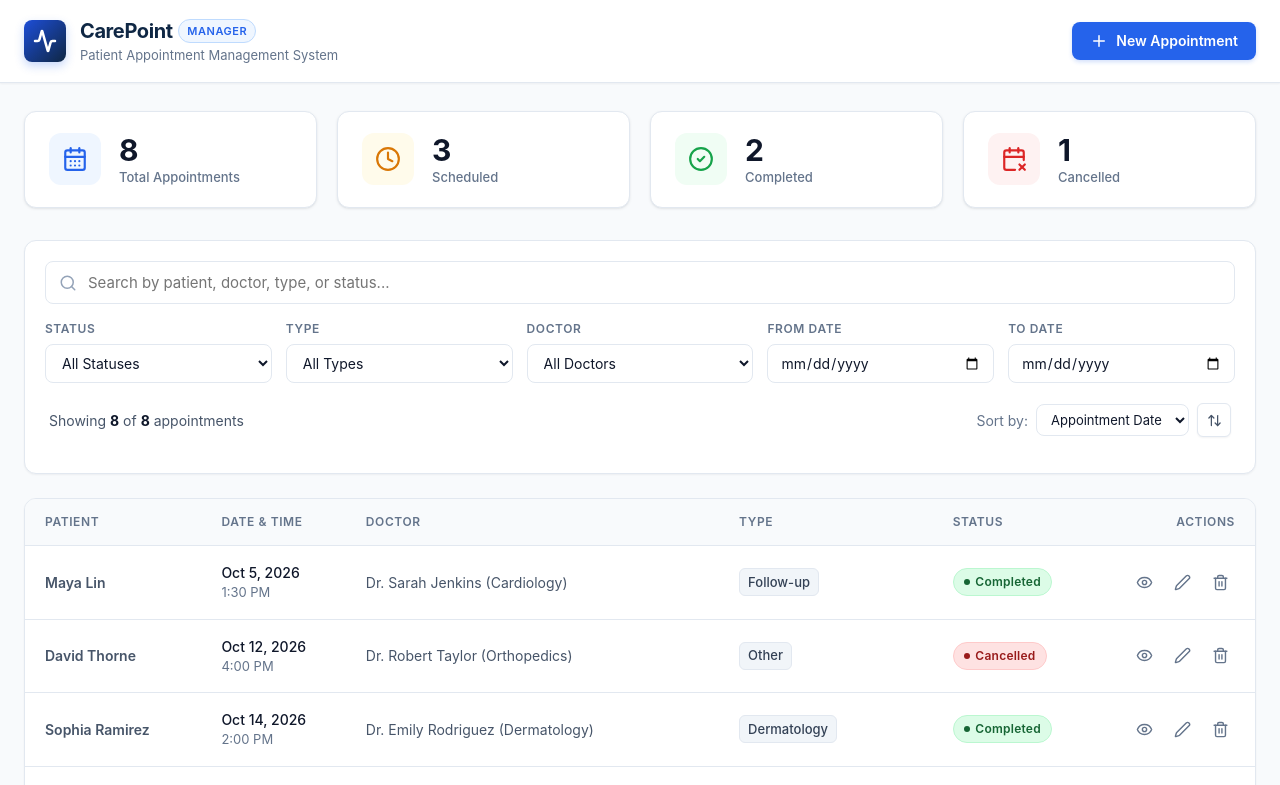
CarePoint Dashboard Component Integration Tests › successfully creates a new appointment and updates table and summary cards
The width and height of the screenshot is (1280, 785).
// Open modal
Click the button with test id "new-appointment-button" at (1164, 41), box [1072,22,1256,60]
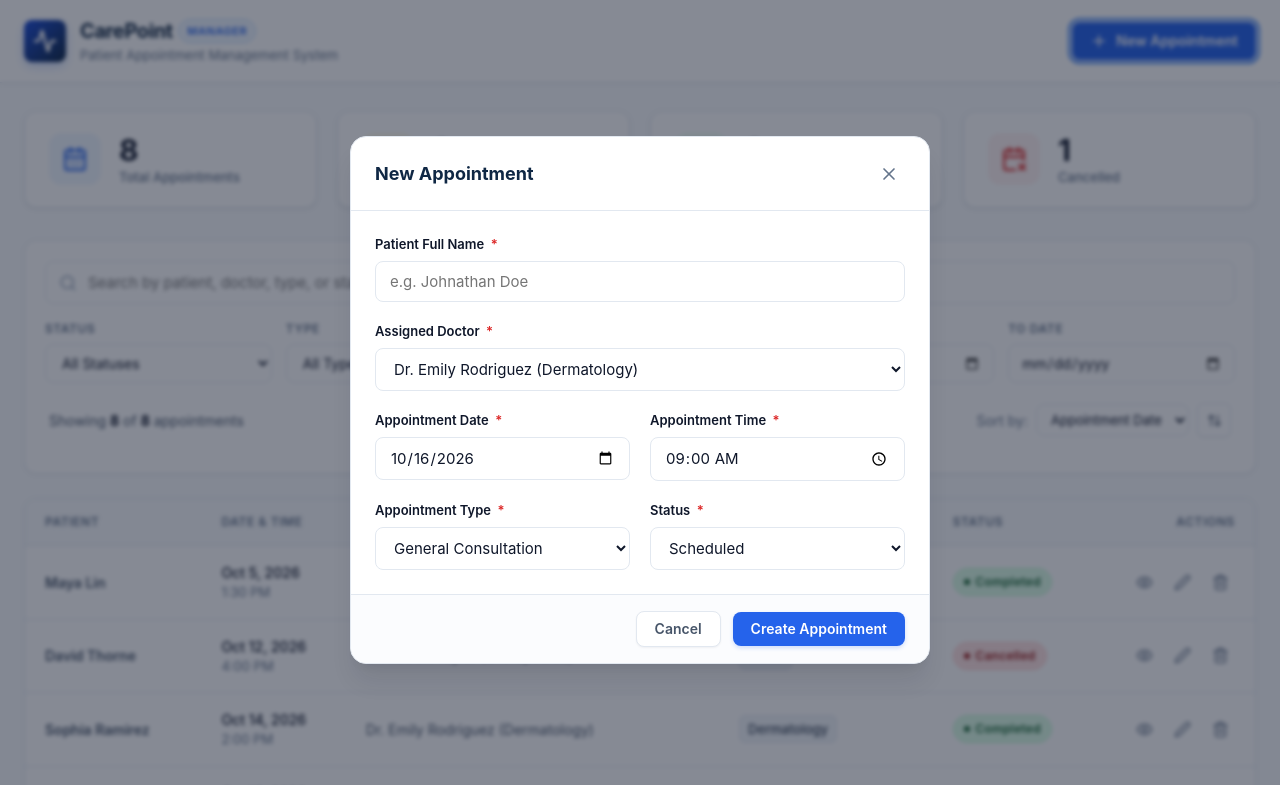
// Fill valid inputs
Type "Rosalind Franklin" into the field with test id "input-patient-name" at (640, 282), box [375,261,905,302]
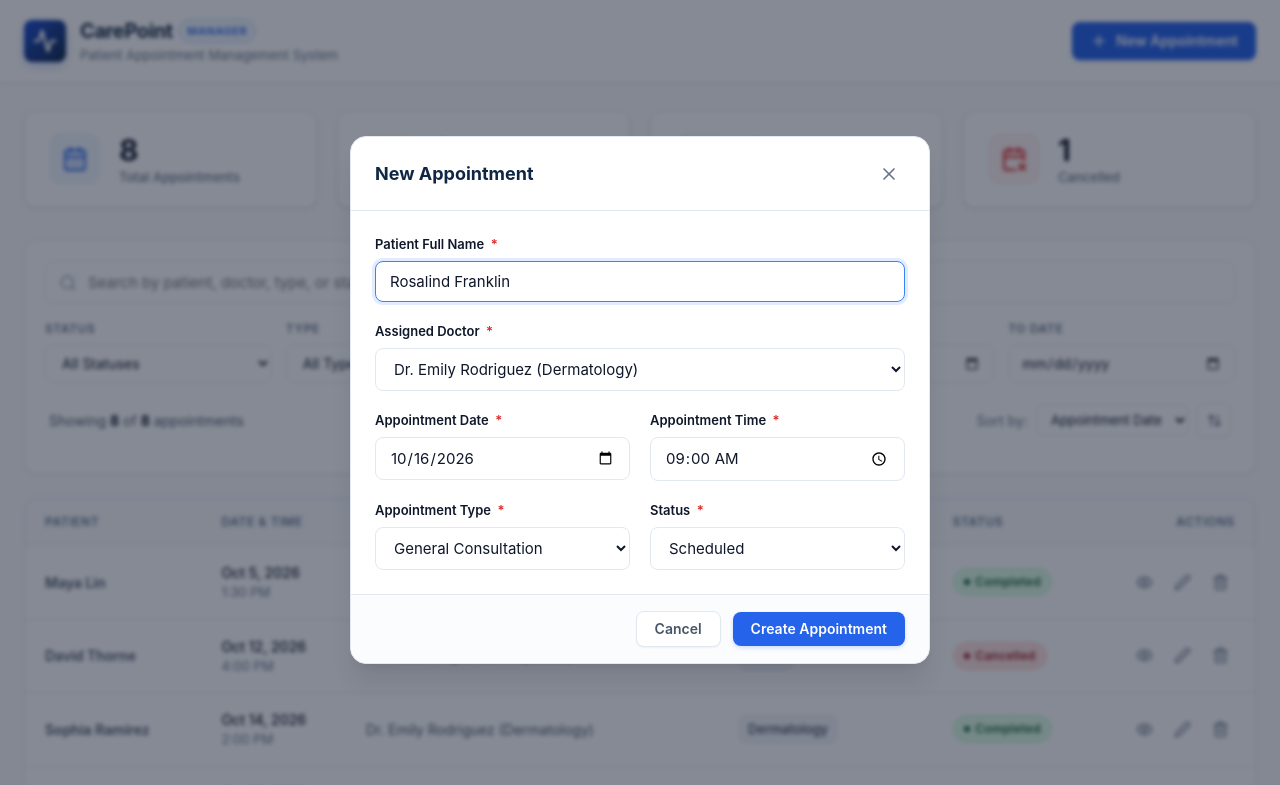
Type "2026-11-20" into the date field with test id "input-appointment-date" at (502, 458), box [375,437,630,480]
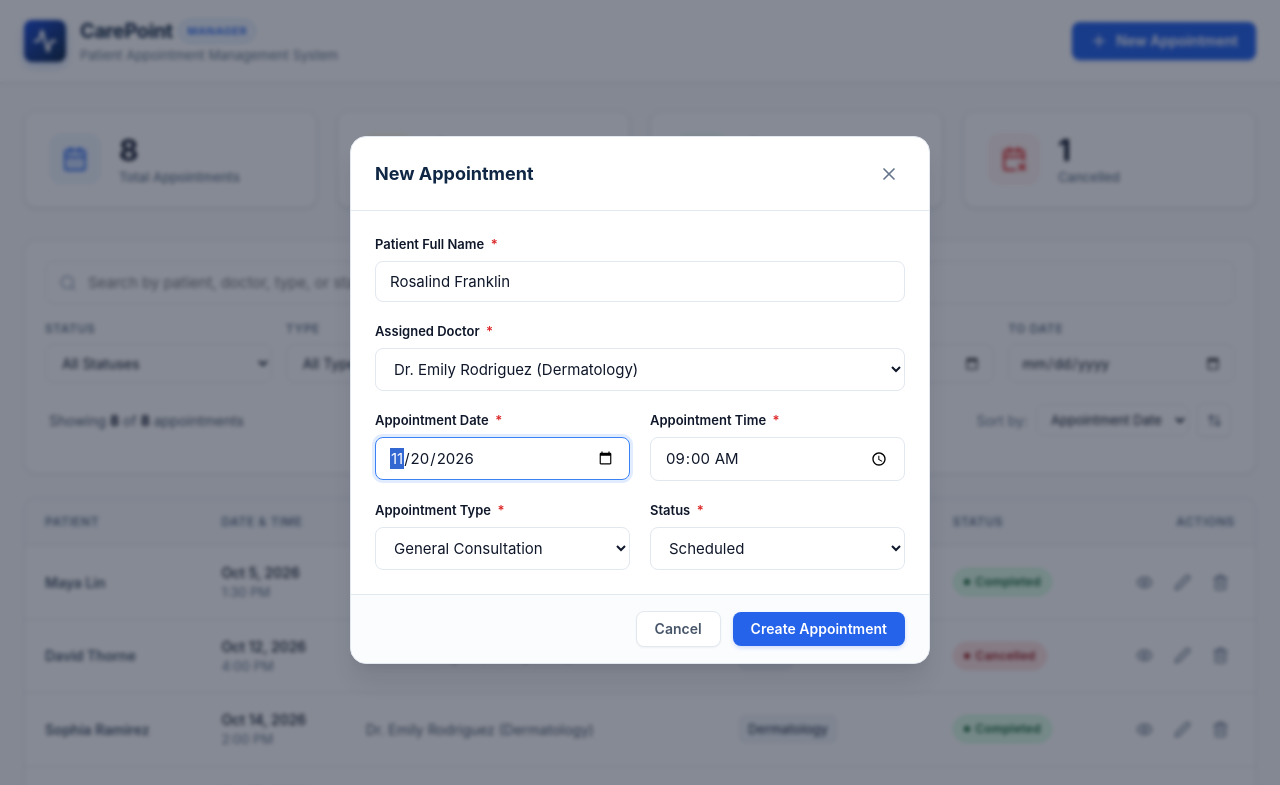
Replace the text in the time field with test id "input-appointment-time" with "11:30" at (778, 459), box [650,437,905,481]
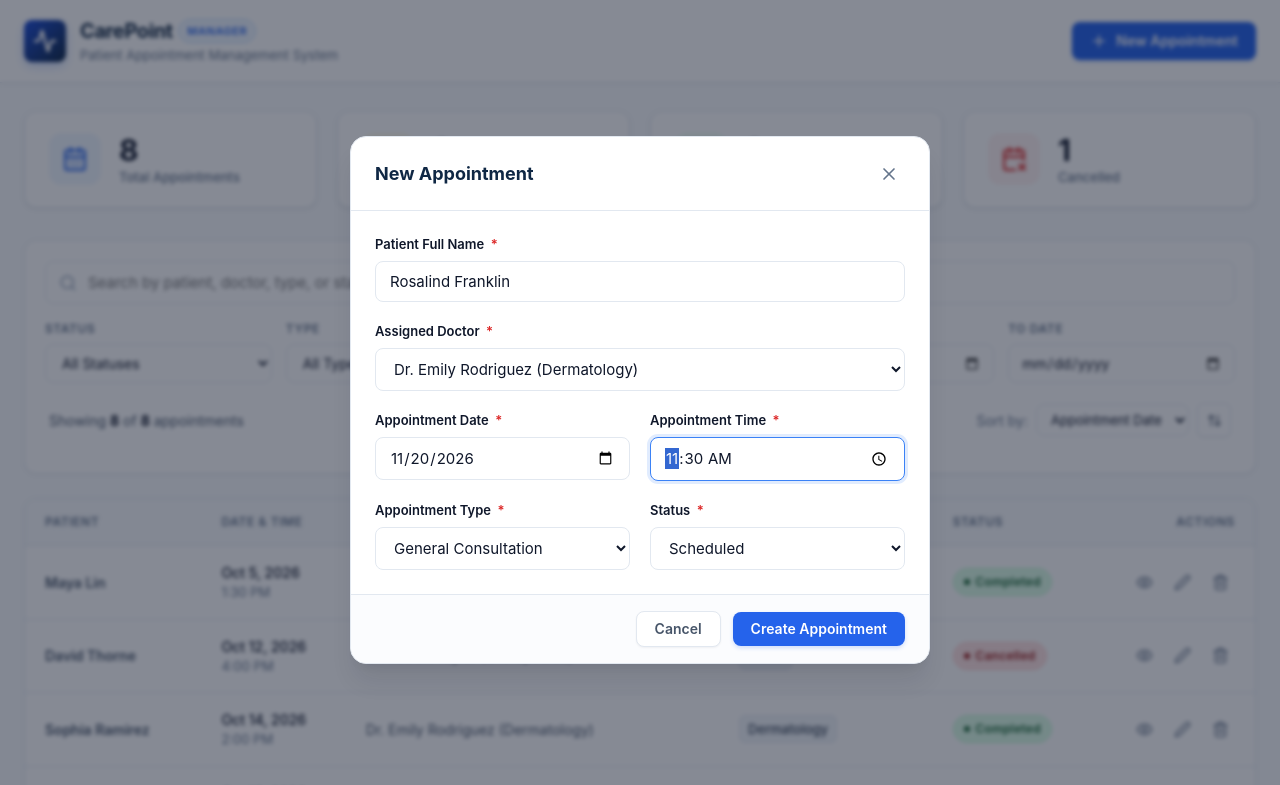
// Submit form
Click the button with test id "form-submit-btn" at (819, 628), box [733,612,905,646]
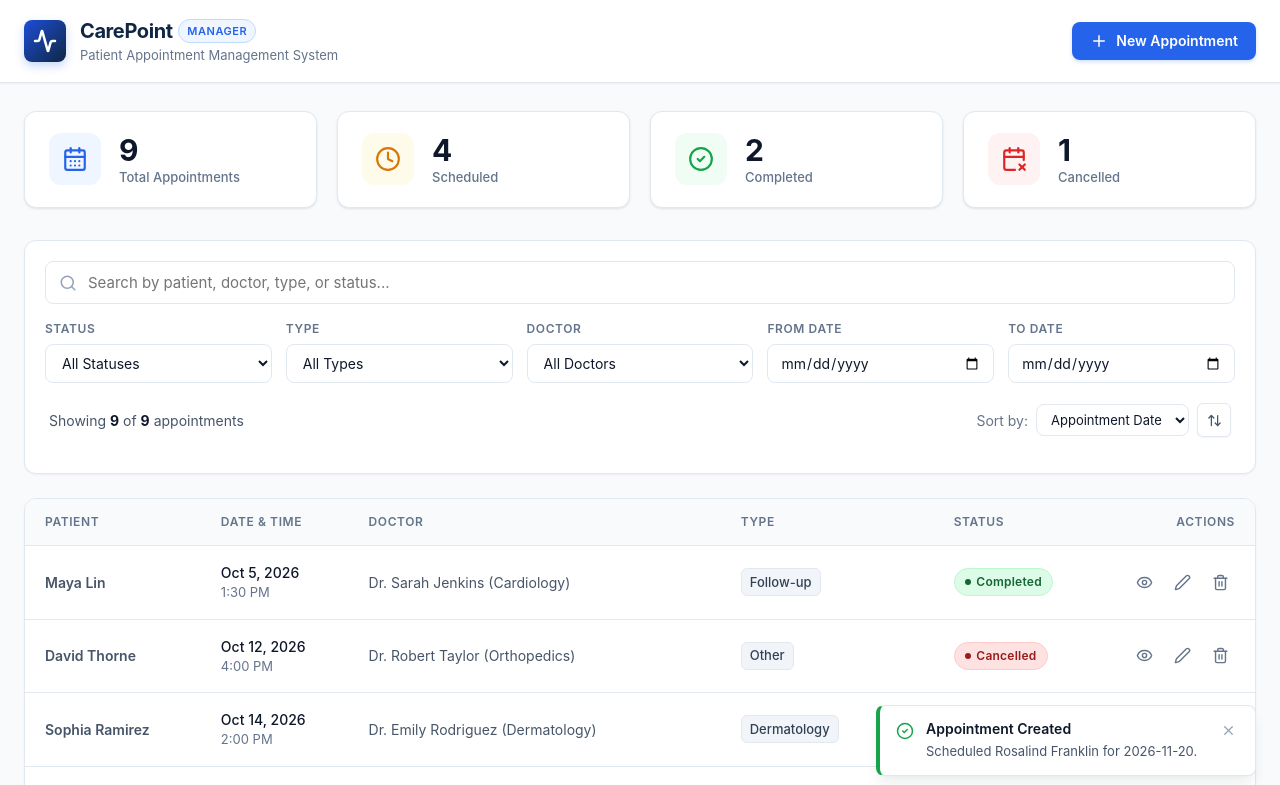
Now the dialog with test id "appointment-form-modal" is gone
Now the message "Appointment Created Scheduled Rosalind Franklin for 2026-11-20." is shown, box [876,705,1256,776]
Now the text "Appointment Created" is shown, box [926,720,1071,737]
